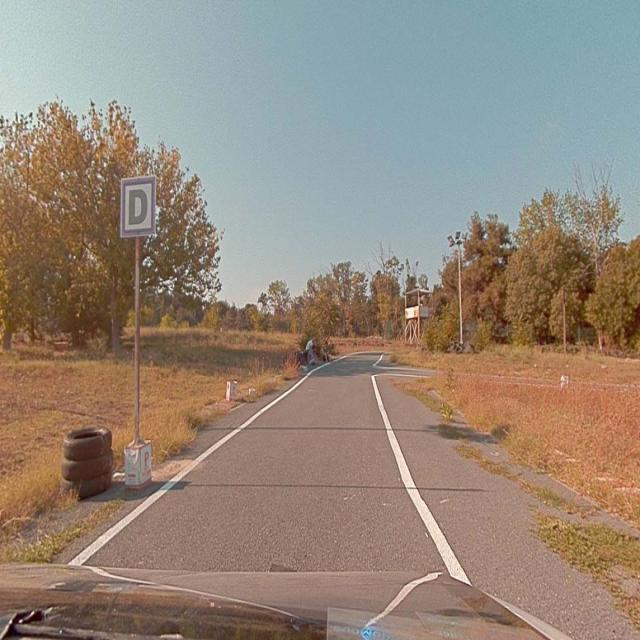durak: (120, 176, 155, 234)
